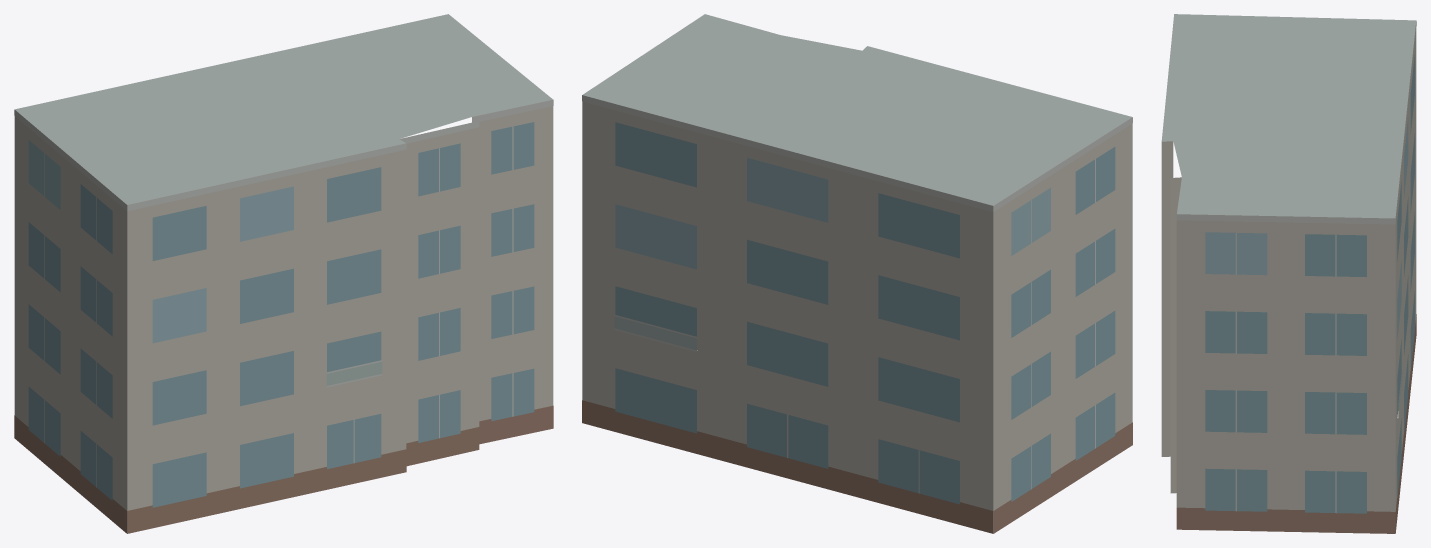
Rendered from survey-upis-32754134.glb.
3 views of the same model, side by side, from view 1: azimuth 30°, elevation 25°; view 2: azimuth 150°, elevation 25°; view 3: azimuth 270°, elevation 25° (orthographic). The views are drawn at different scales.
Parts seen in each view (by area): view 1: survey-upis-32754134.tmp; view 2: survey-upis-32754134.tmp; view 3: survey-upis-32754134.tmp.
Part boxes in pixels (bbox=[...]): survey-upis-32754134.tmp: bbox=[14, 14, 553, 533]; survey-upis-32754134.tmp: bbox=[582, 14, 1132, 533]; survey-upis-32754134.tmp: bbox=[1161, 14, 1416, 533].
Bounding box in the file's own units: 17.8 × 12.8 × 9.38.
